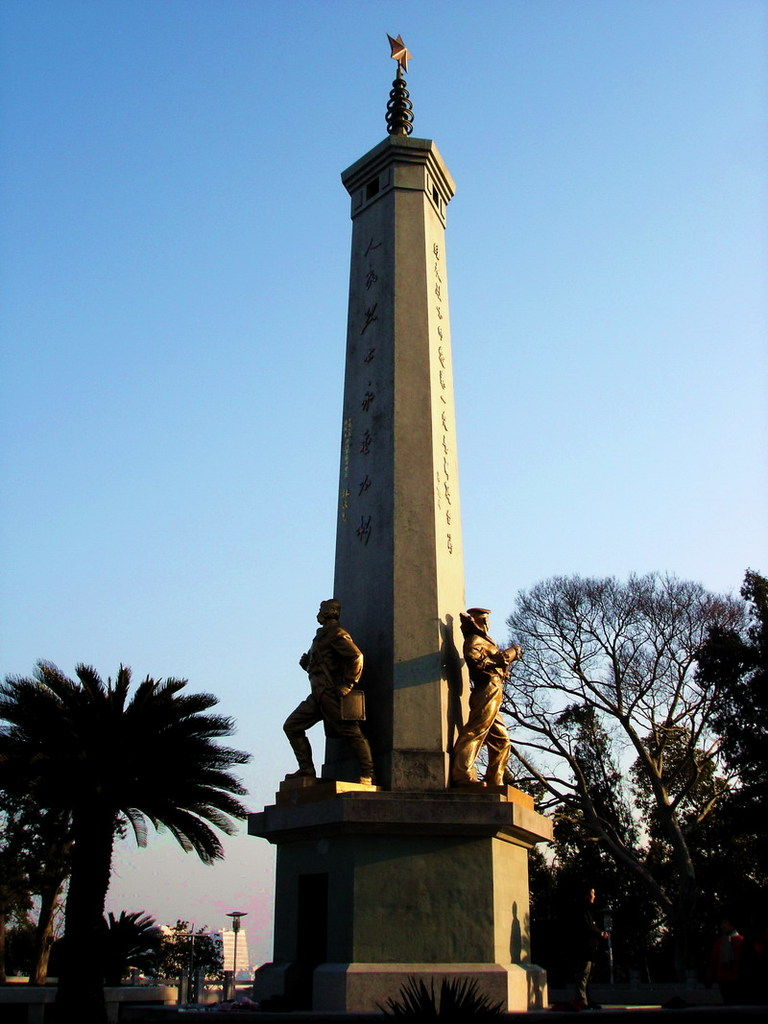Tree: (470, 563, 768, 1006), (2, 658, 227, 984)
